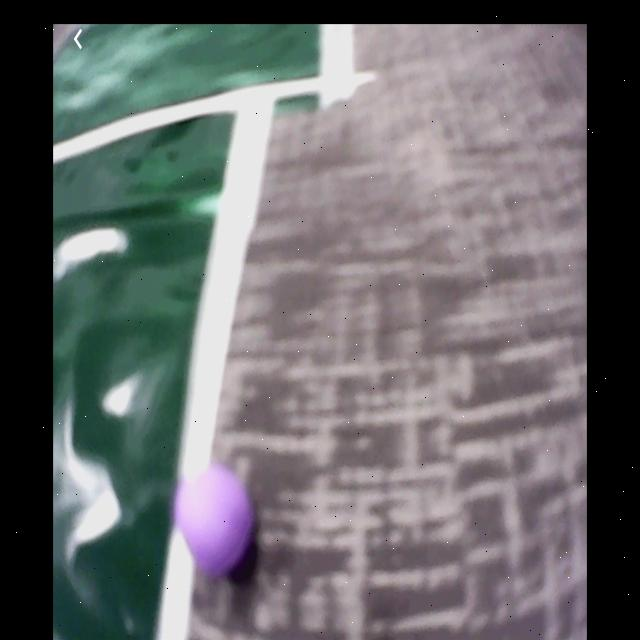ball: (176, 464, 256, 576)
